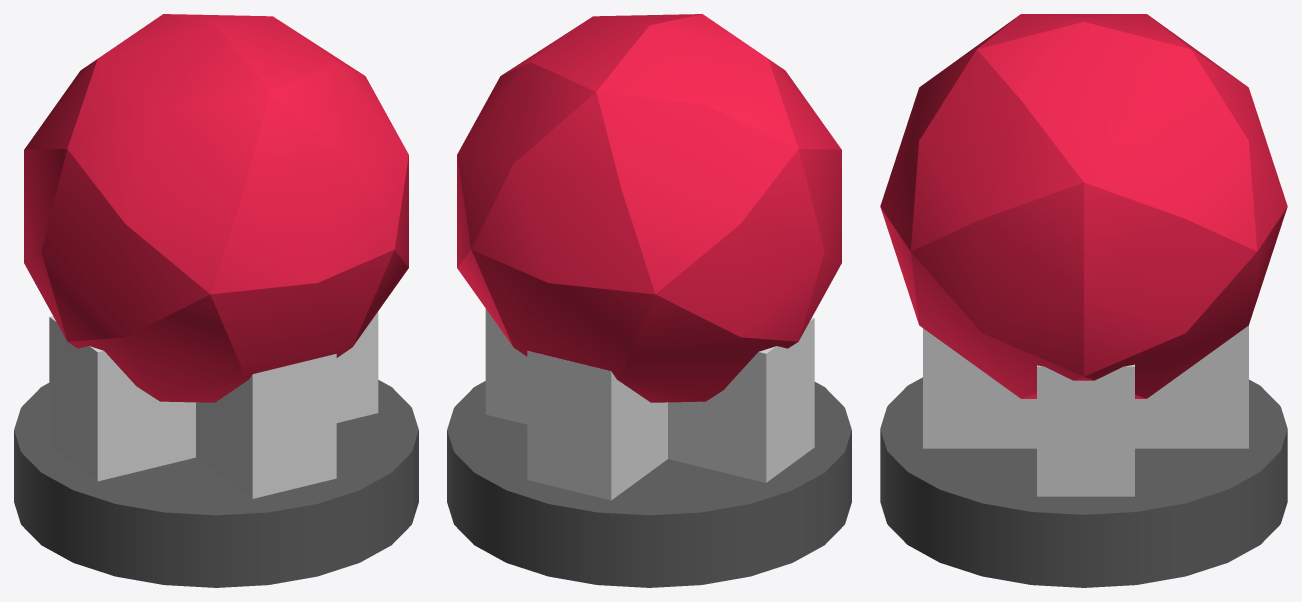
The model's file is gems_ruby_5.obj.
3 renders of one model, left to right at view 1: azimuth 30°, elevation 25°; view 2: azimuth 150°, elevation 25°; view 3: azimuth 270°, elevation 25°, orthographic.
Visible parts, largest first — view 1: mergedBlocks; view 2: mergedBlocks; view 3: mergedBlocks.
Boxes of the visible parts, x1,y1,x2,y2 form: mergedBlocks: [14, 14, 418, 587]; mergedBlocks: [447, 14, 851, 587]; mergedBlocks: [880, 14, 1287, 587].
Bounding box in the file's own units: 1 × 1.3 × 1.
